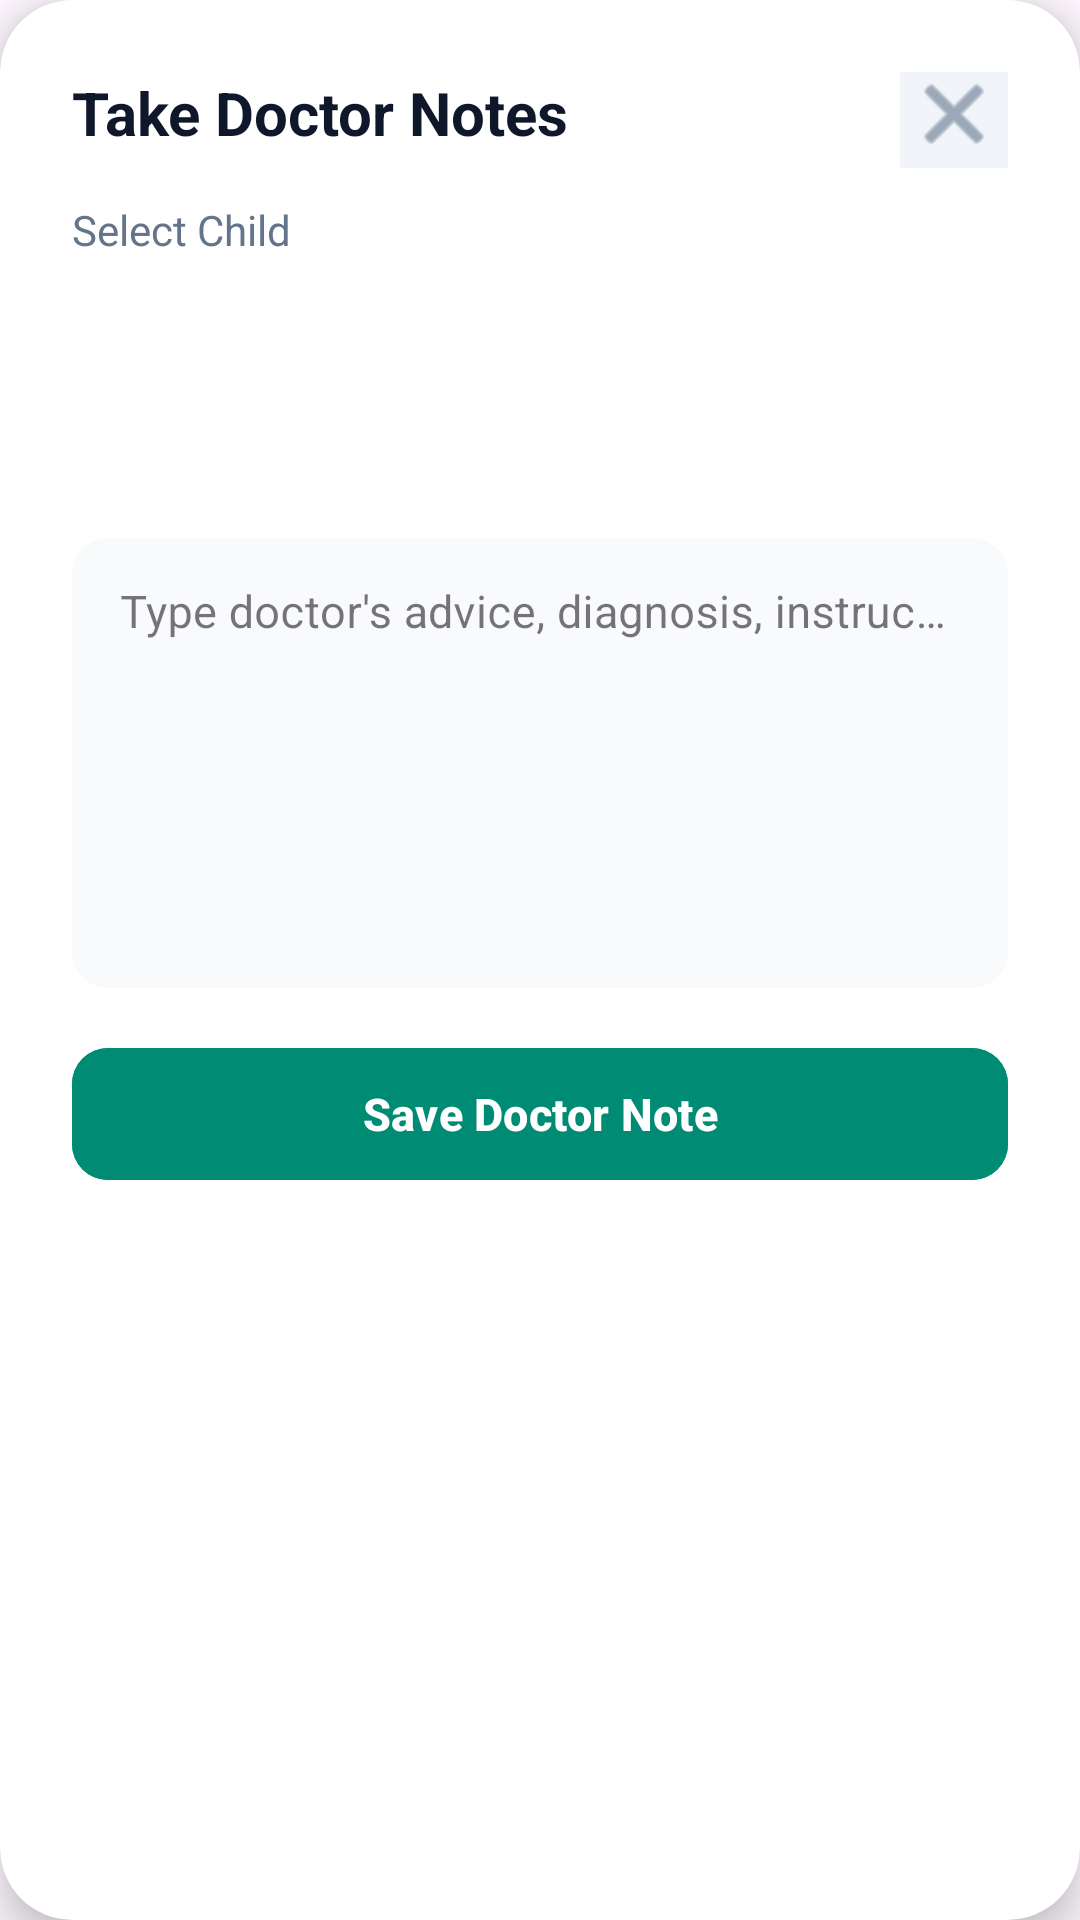

Where to tap for icons on this 1080w x 1920h app screen, as (x,y):
close clear cancel: (954,114)
